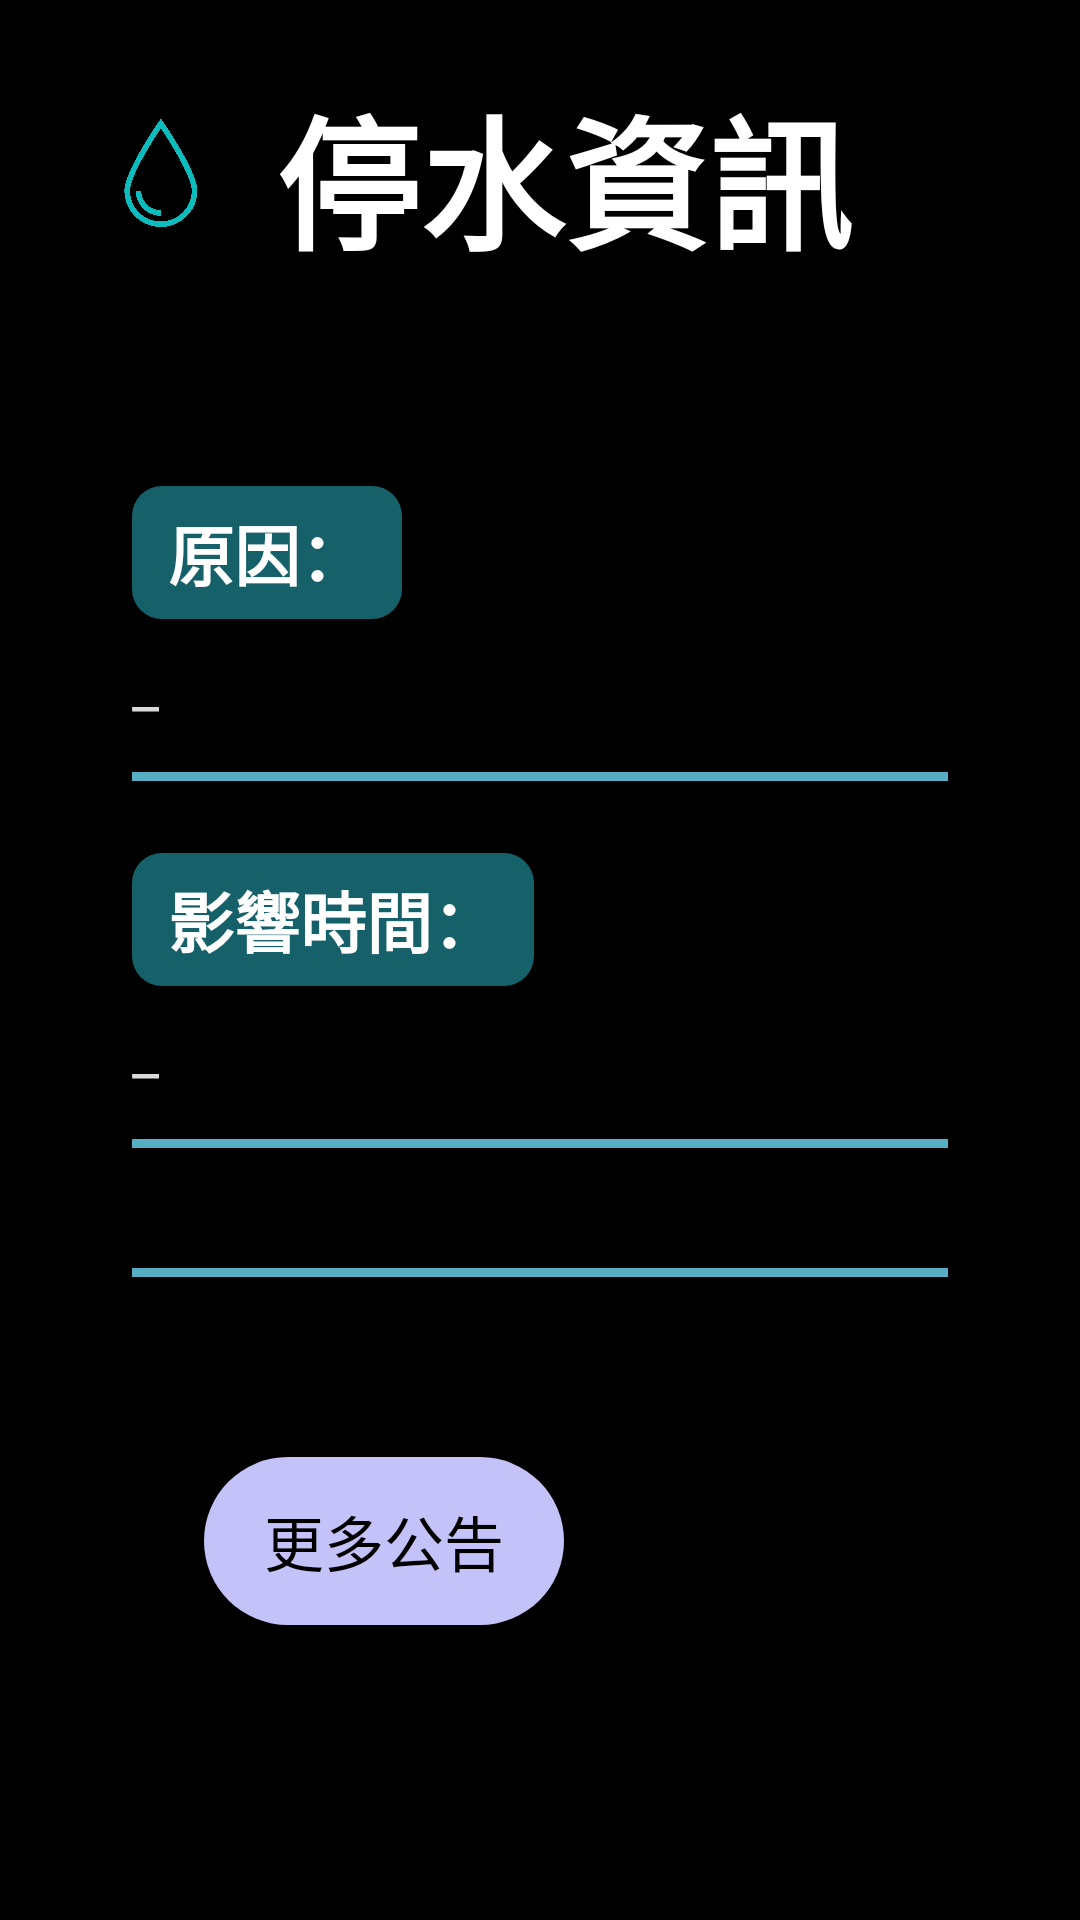

Where icons sit on this 1080×1920 app screen, as {"left": x1, "top": y1, "right": x2, "bottom": y2}:
停水圖示: {"left": 124, "top": 119, "right": 197, "bottom": 227}
